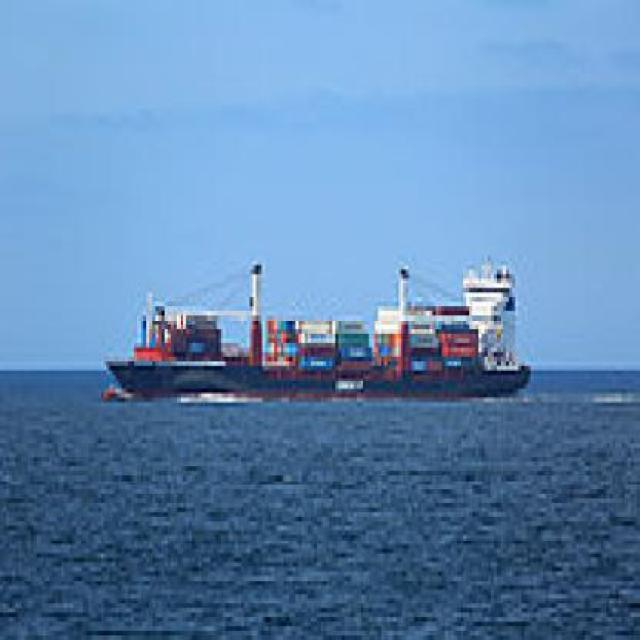container: (87, 239, 547, 408)
